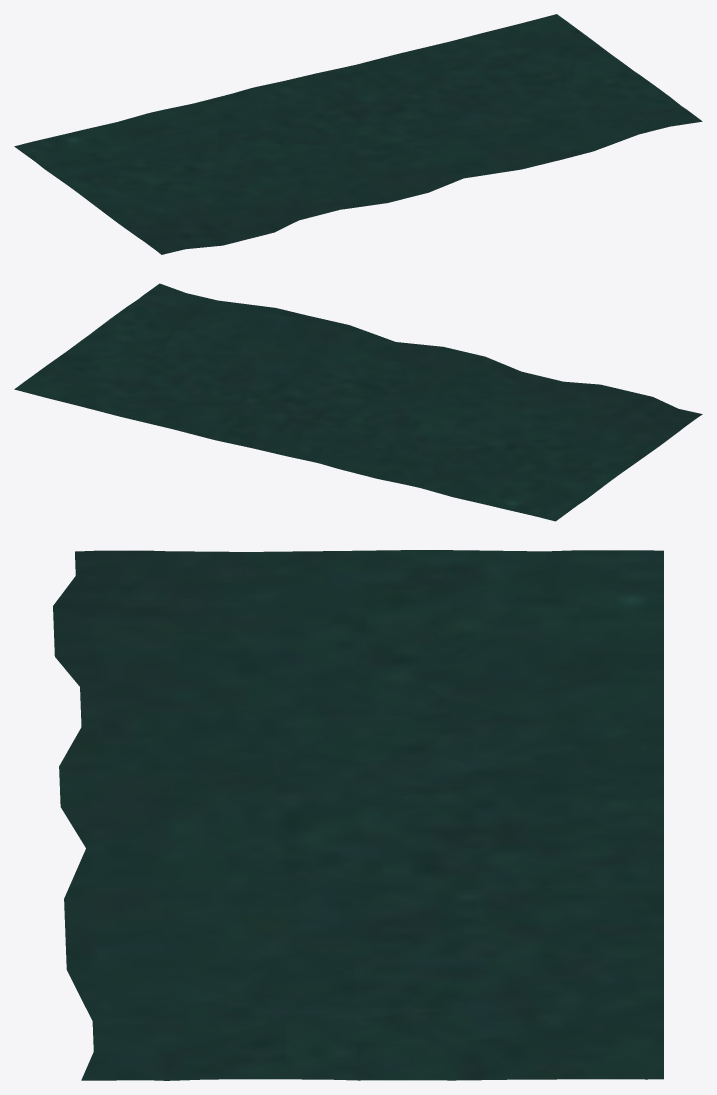
3 views of the same model, one above another, from view 1: azimuth 30°, elevation 25°; view 2: azimuth 150°, elevation 25°; view 3: azimuth 270°, elevation 25° (orthographic). The views are drawn at different scales.
Bounding box in the file's own units: 52.22 × 0.2747 × 25.51.
1 material, 1 textured.
